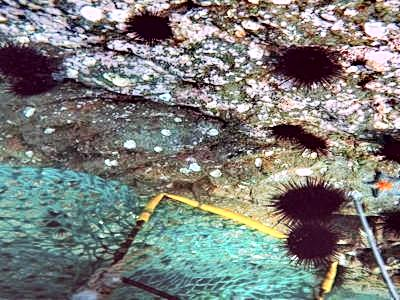urchin: (273, 176, 341, 222), (270, 44, 338, 87), (284, 218, 340, 267), (1, 43, 45, 73), (132, 12, 170, 39), (12, 70, 52, 94), (298, 131, 325, 152), (378, 206, 395, 237), (377, 138, 396, 164), (267, 123, 301, 136)
